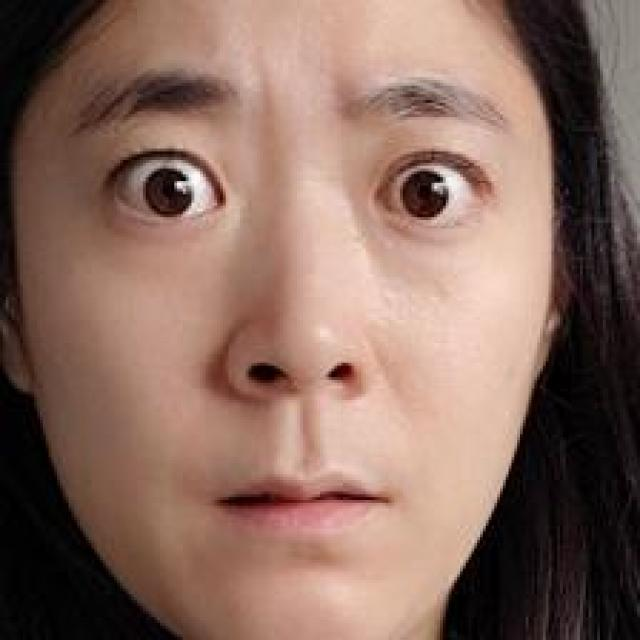fear: (60, 63, 531, 640)
